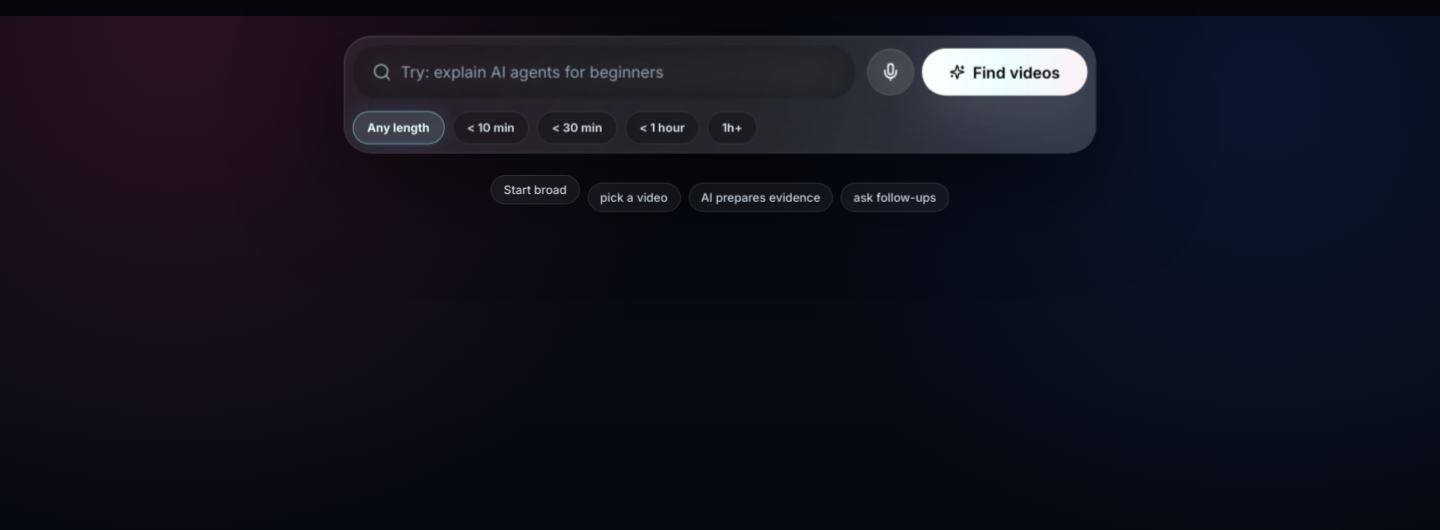
Scenario: SearchConsole – voice input › Web Speech API › shows whisper fallback message on network error
Click the button named "start voice search" at {"x": 890, "y": 72}, box [867,48,914,95]
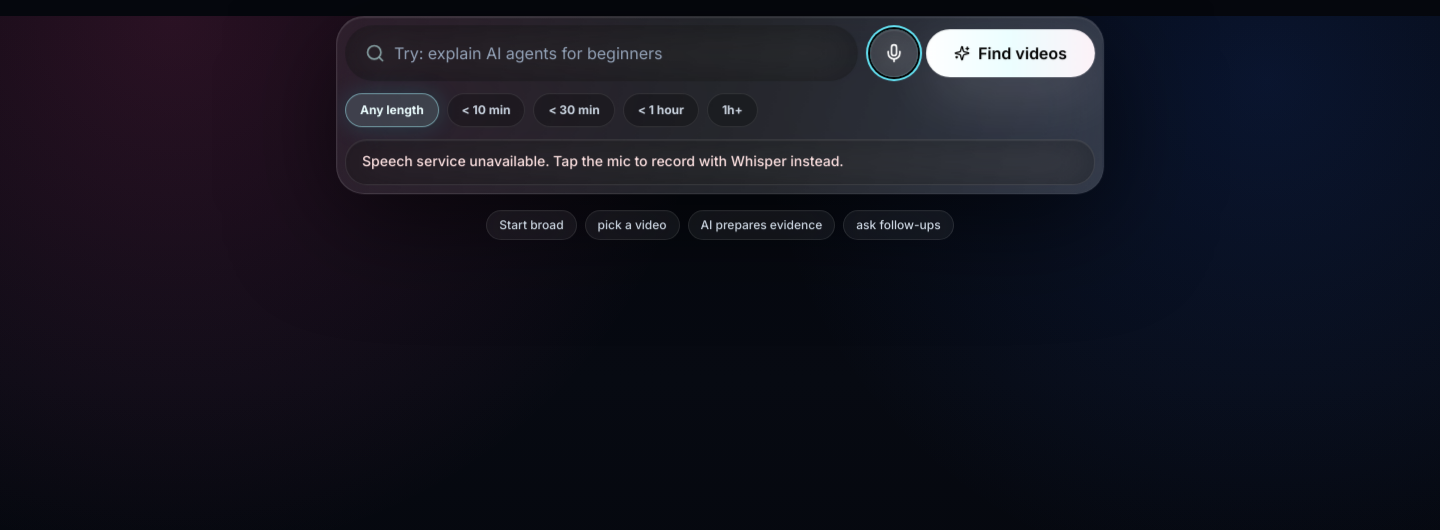
Expected: the text "Speech service unavailable" is shown, [362,153,844,170]
